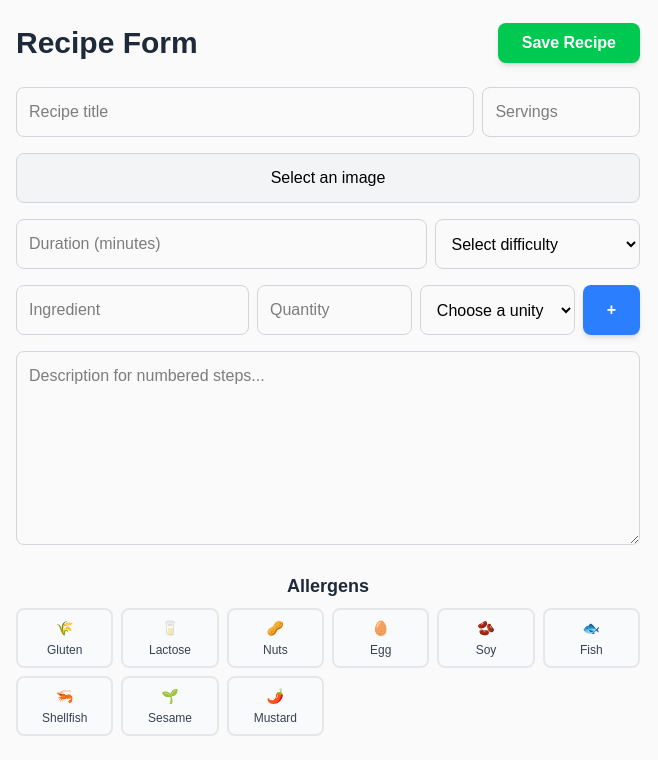
Test: RecipeForm component › should add/delete ingredient to the list when clicking the add button/delete ingredient
The image size is (658, 760).
Type "Tomato" into the field with placeholder "Ingredient". click: (132, 310)
box: 16,285 -> 249,335
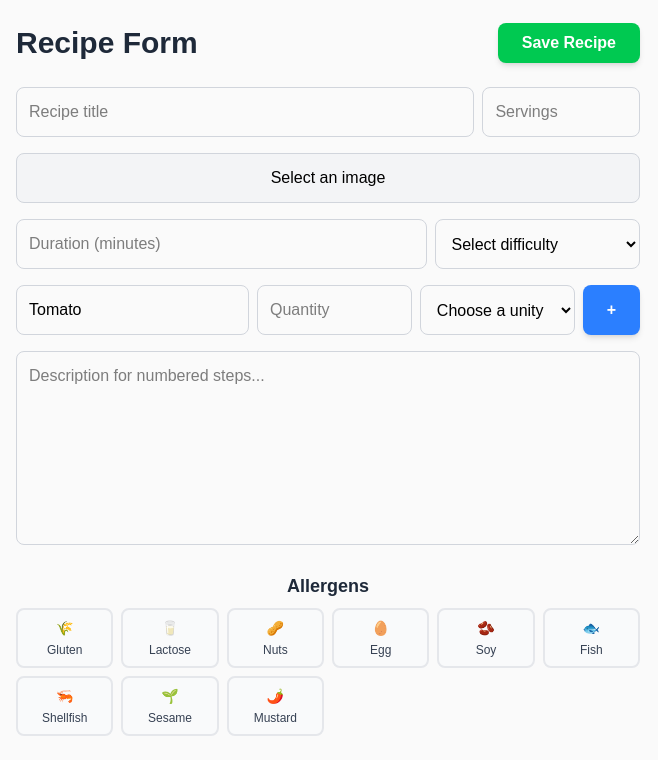
Type "2" into the field with placeholder "Quantity". click: (334, 310)
box: 257,285 -> 412,335
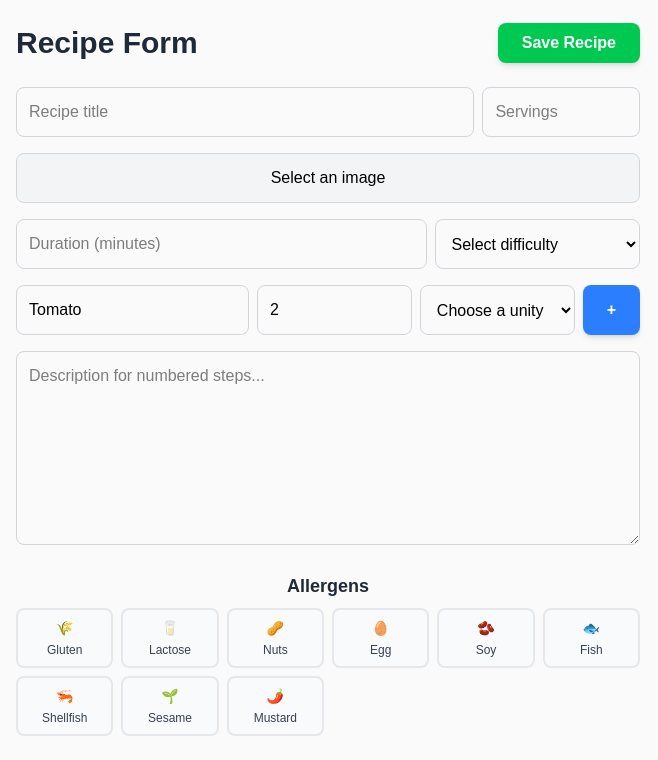
Select "Kilograms" in the 2nd dropdown. click: (497, 310)
box: 420,285 -> 575,335
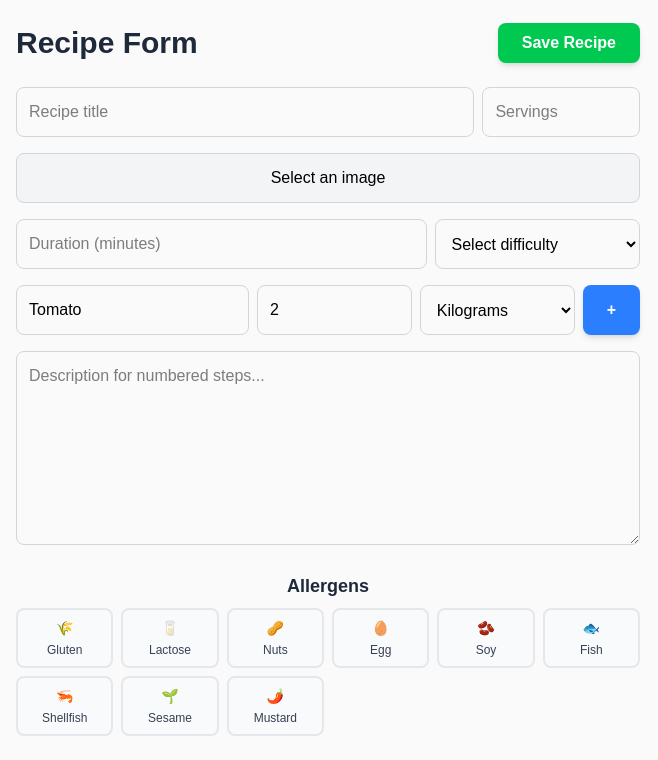
Click the button "+". click: (611, 310)
box: 583,285 -> 640,335
(page scrolled)
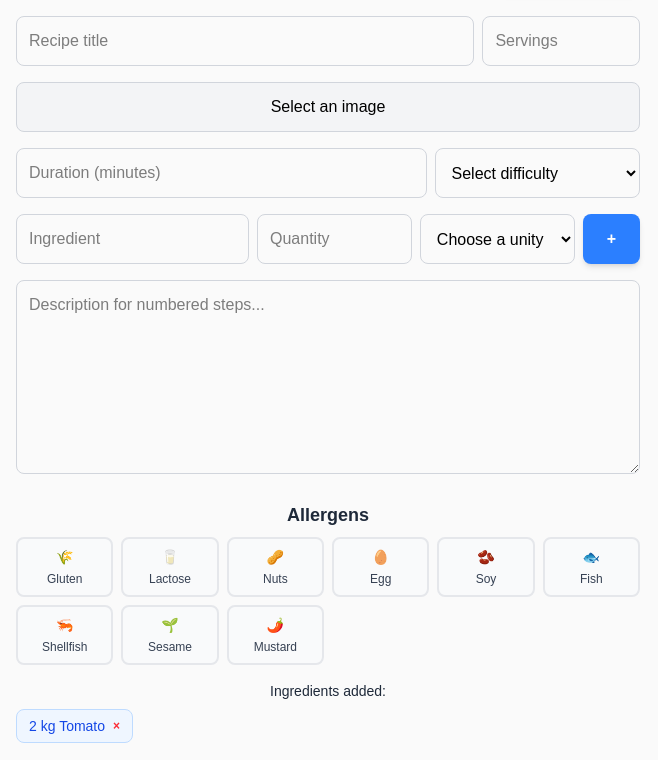
expect the text "2 kg Tomato" is shown: met, box 29,716 -> 105,736
Click the button "×". click: (116, 726)
box: 113,718 -> 120,734
(page scrolled)
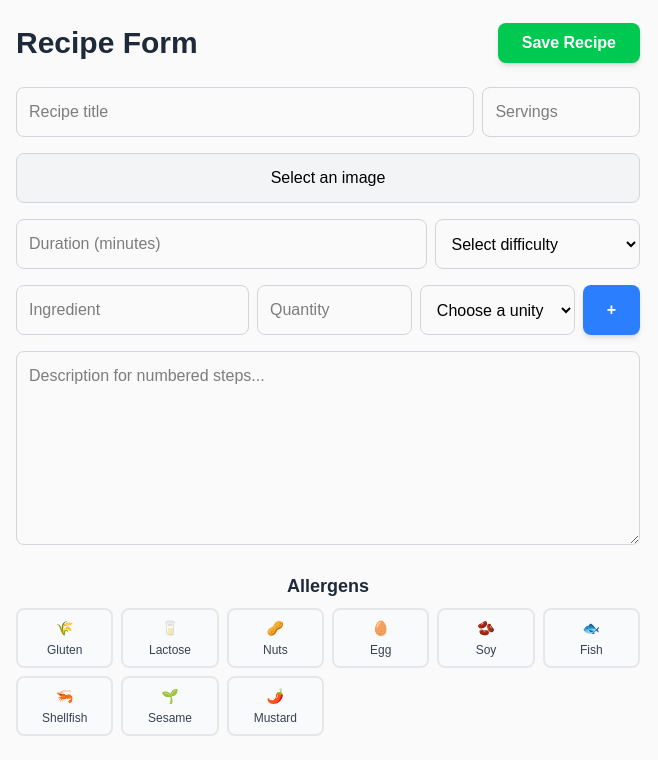
expect the text "2 kg Tomato" is gone: met
